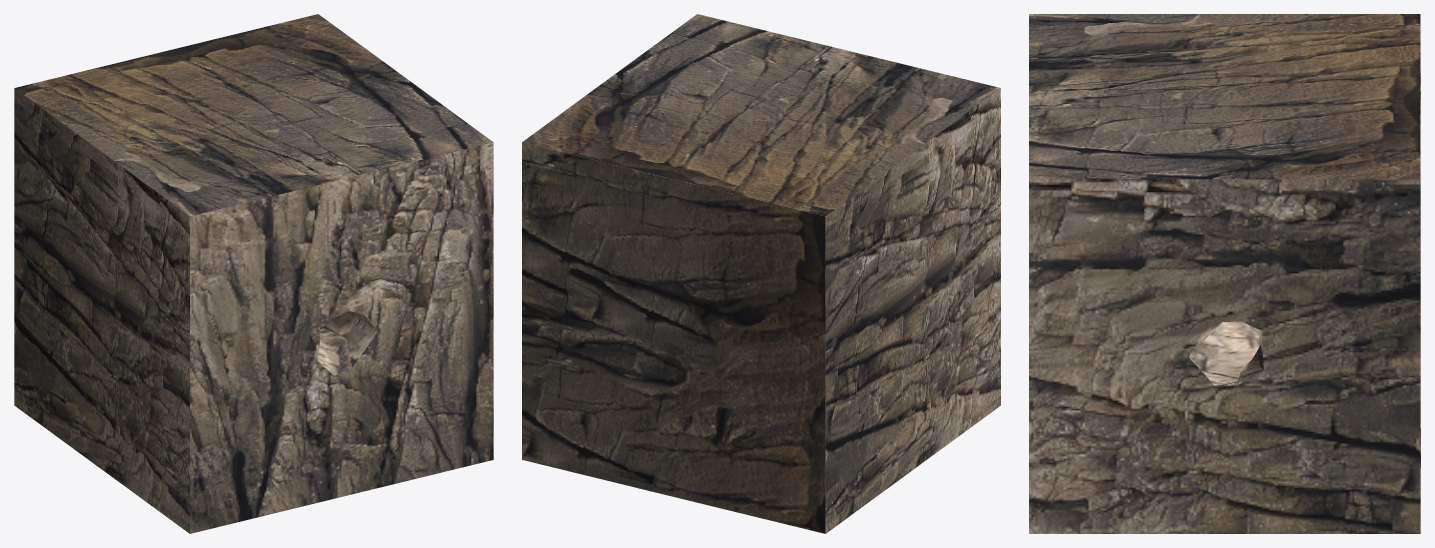
Rendered from tunnel_block_2_2.obj.
3 renders of one model, left to right at view 1: azimuth 30°, elevation 25°; view 2: azimuth 150°, elevation 25°; view 3: azimuth 270°, elevation 25°, orthographic. The views are drawn at different scales.
Visible parts, largest first — view 1: Box005; view 2: Box005; view 3: Box005.
Boxes of the visible parts, x1,y1,x2,y2 form: Box005: (14, 14, 493, 533); Box005: (522, 14, 1000, 533); Box005: (1029, 14, 1420, 533).
Size of the model in its own units: 100 by 100 by 100.
